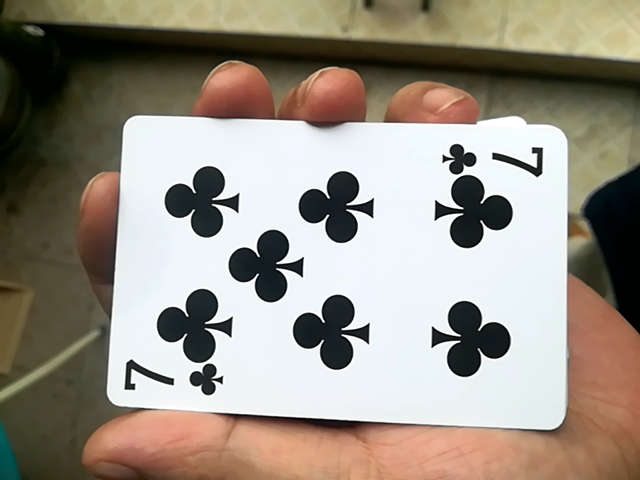mh 7: (93, 118, 562, 432)
